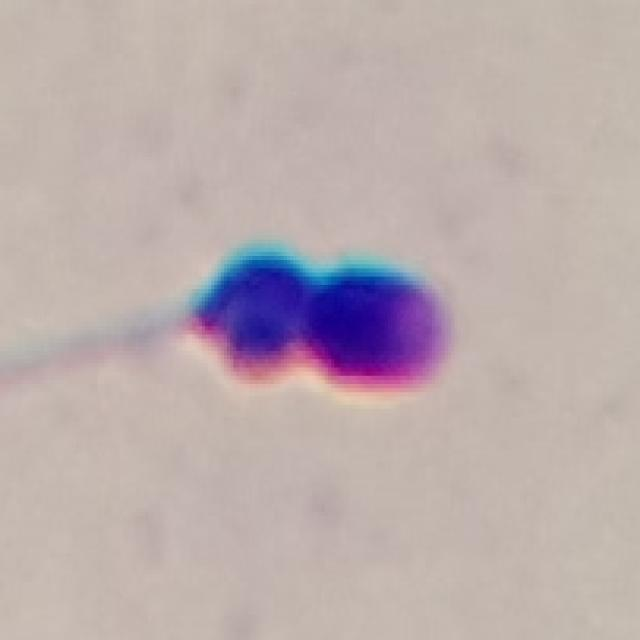abnormal sperm: (93, 248, 453, 392)
